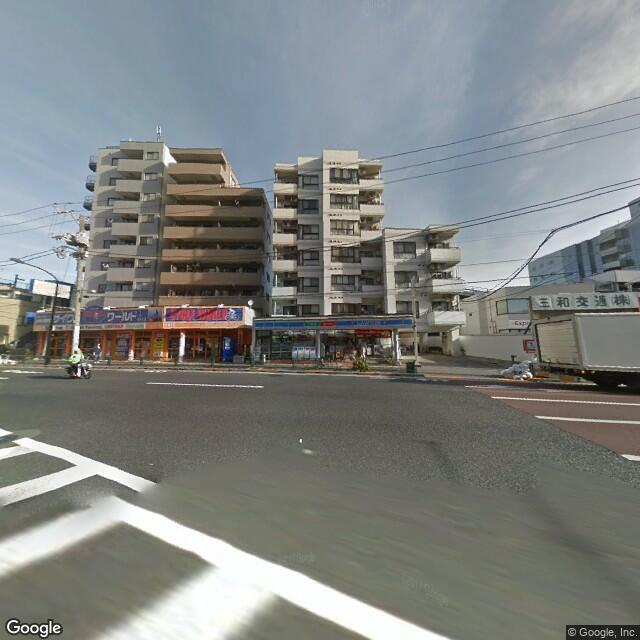lawson: (252, 312, 418, 337)
